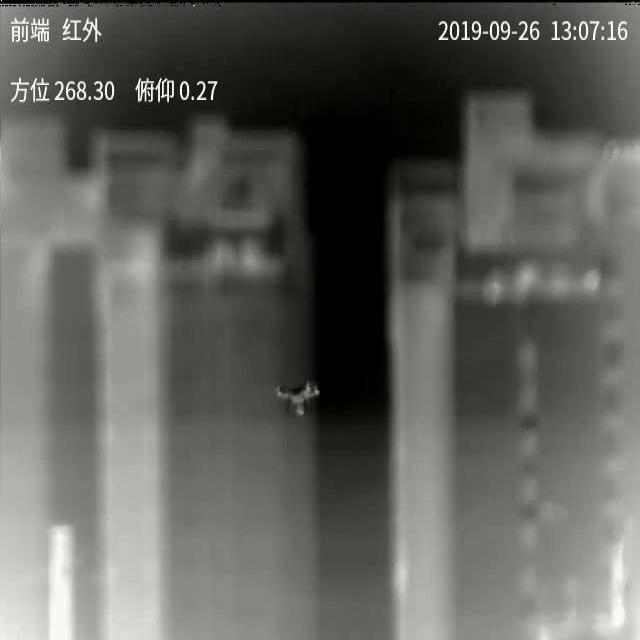drone: (275, 381, 320, 417)
